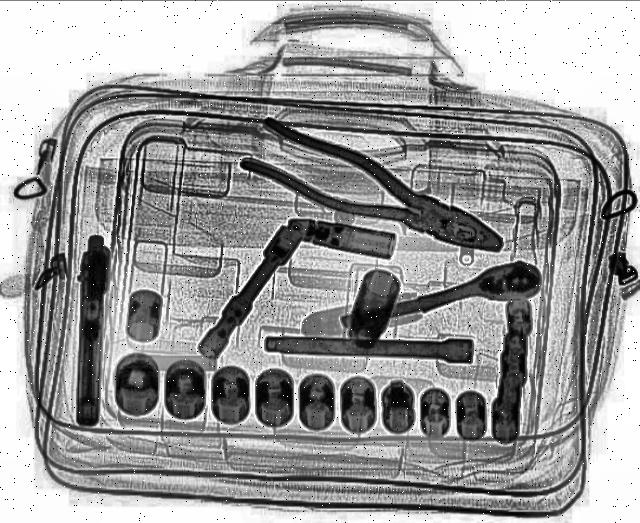Gun: (64, 236, 112, 432)
Pliers: (228, 115, 522, 272)
